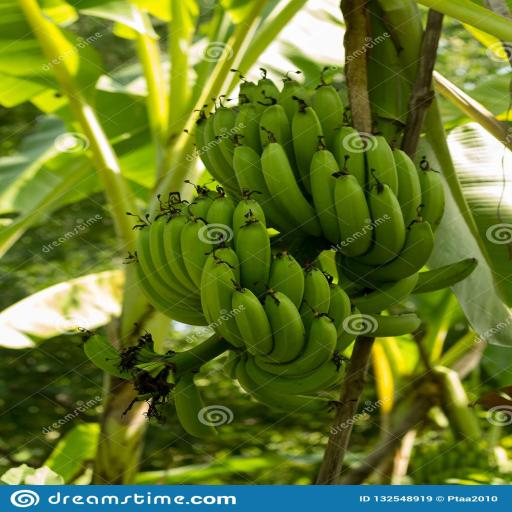banana-unripe: (60, 55, 468, 459)
